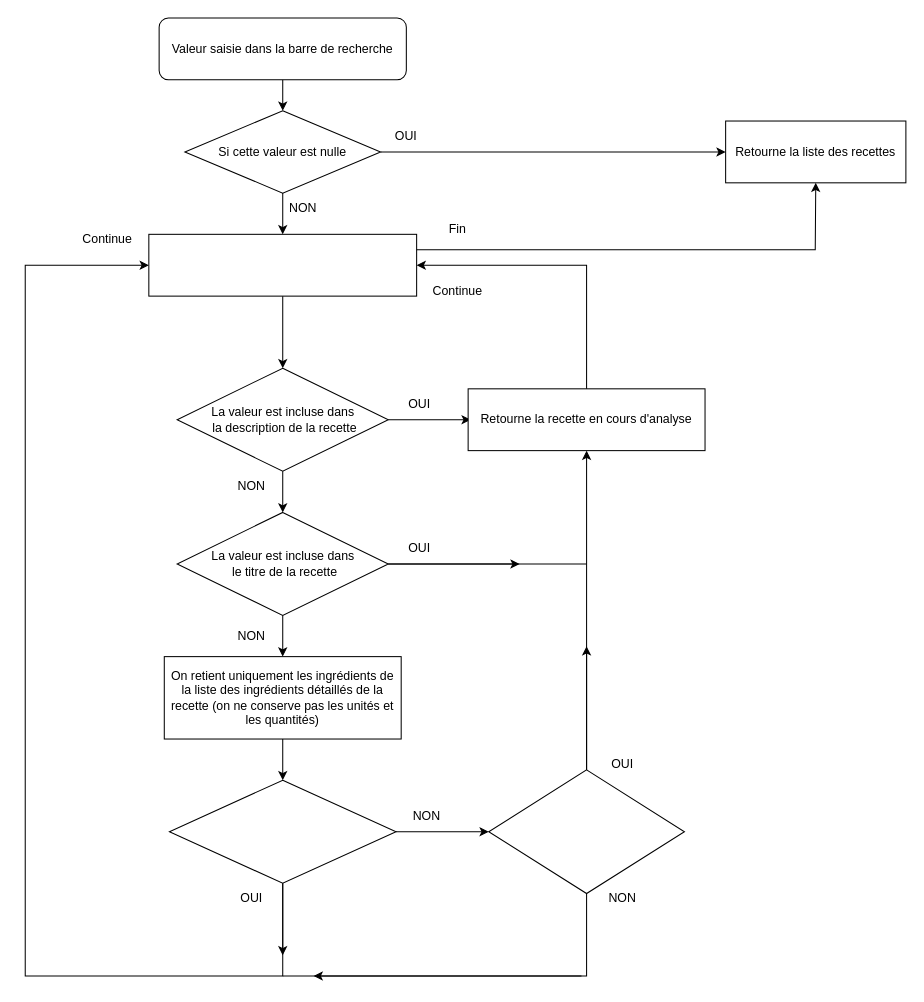
This 924x1002 diagram has some shape labels left out. The shapes that lost their labels are listed below. From the top down, each one's centre as x and y in pixels, then its label:
(x=282, y=264): Réalisons d'un filtre sur la liste des recettes
(x=282, y=831): Nombre ingrédient retenu est égal à 0
(x=586, y=831): La valeur saisie est incluse dans la liste des ingrédients
